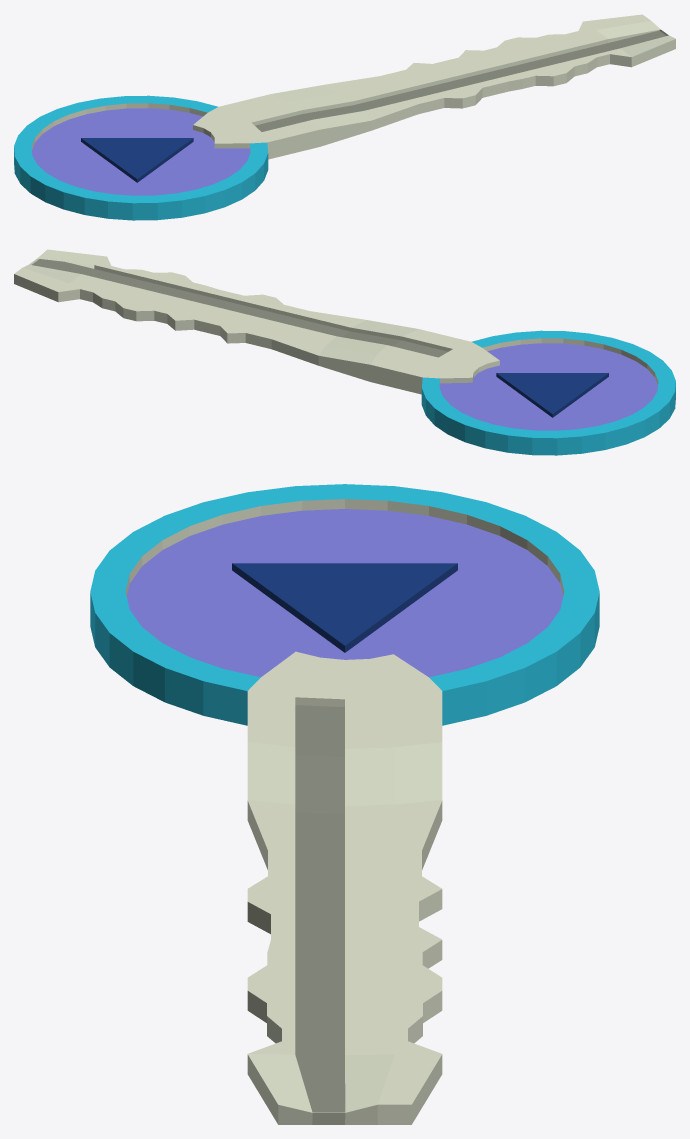
The model's file is Key-Tri.fbx.
3 renders of one model, top to bottom at view 1: azimuth 30°, elevation 25°; view 2: azimuth 150°, elevation 25°; view 3: azimuth 270°, elevation 25°, orthographic. The views are drawn at different scales.
Parts seen in each view (by area): view 1: 柱体.001, 圆环; view 2: 柱体.001, 圆环; view 3: 柱体.001, 圆环.
Part boxes in pixels (x1=…): 柱体.001: x1=14, y1=14, x2=675, y2=220; 圆环: x1=81, y1=138, x2=193, y2=182; 柱体.001: x1=14, y1=249, x2=675, y2=455; 圆环: x1=496, y1=373, x2=608, y2=417; 柱体.001: x1=90, y1=484, x2=599, y2=1124; 圆环: x1=232, y1=563, x2=457, y2=652.
Bounding box in the file's own units: 571 × 15 × 200.
